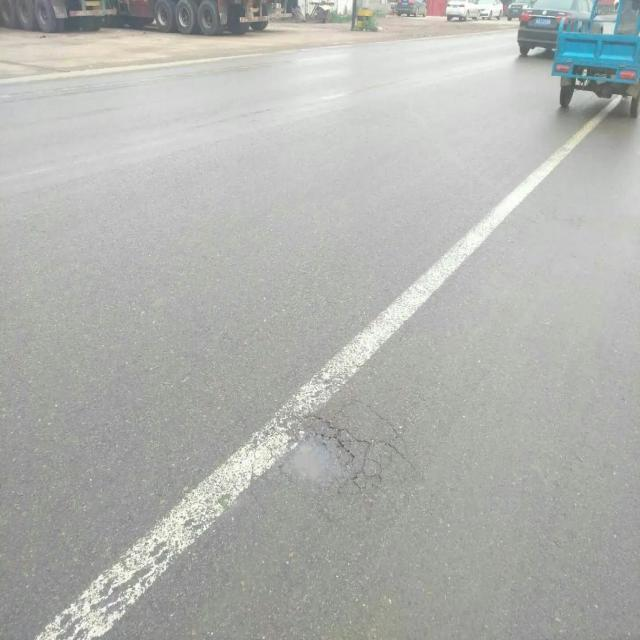pothole: (274, 405, 389, 502)
